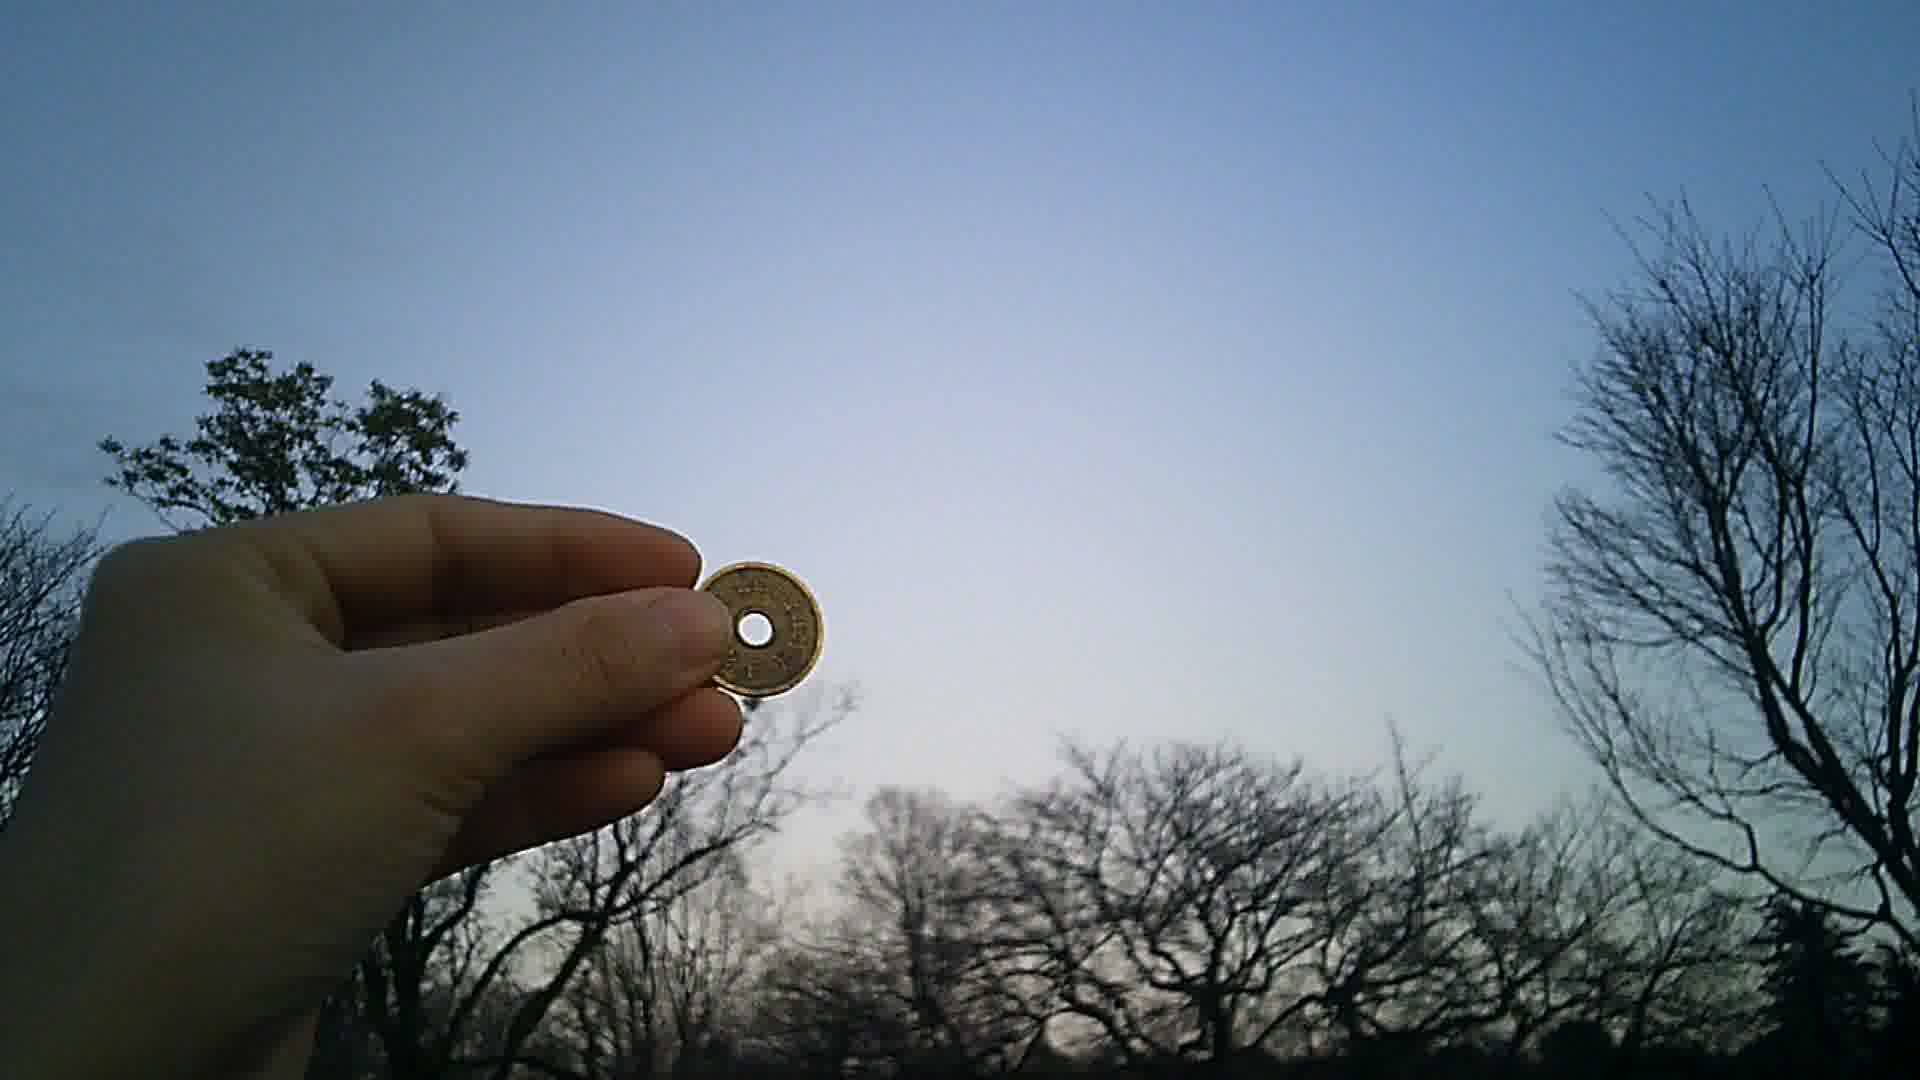5 Yen: (687, 553, 832, 702)
